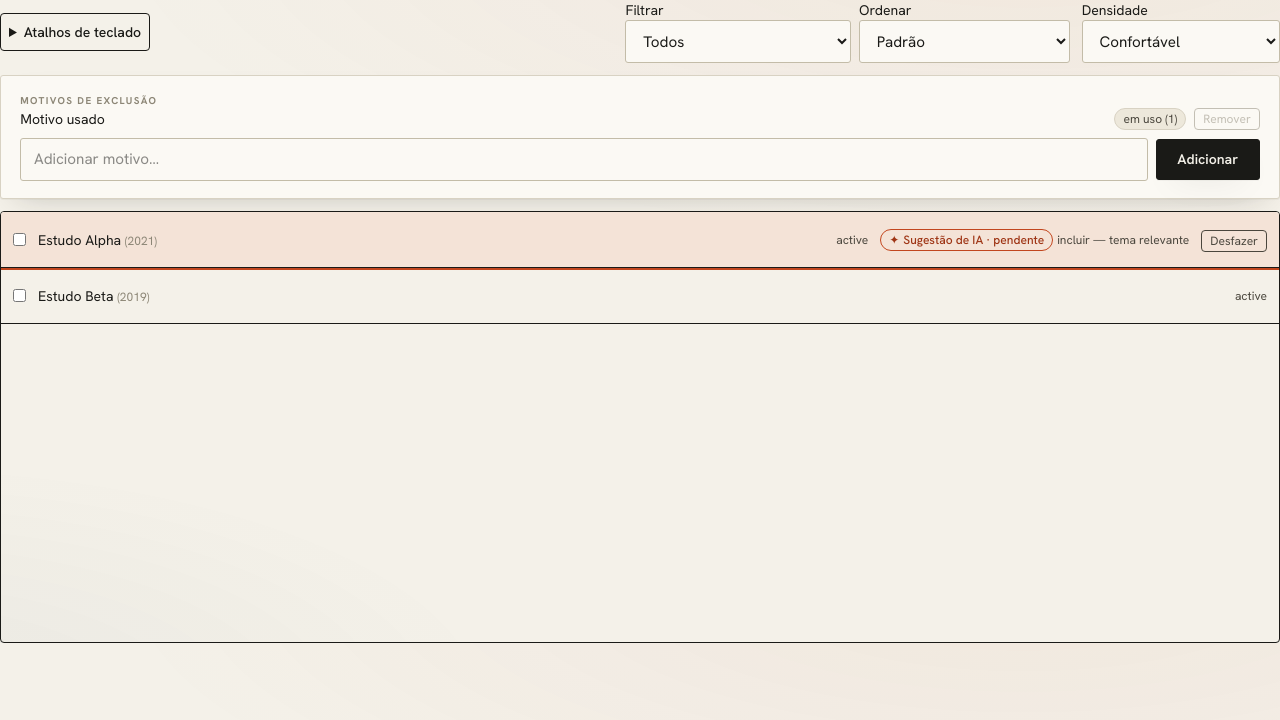
it: ScreeningQueue (US4) › 8.1 — artigo sem decisão reversível mostra nota, sem botão Desfazer
The image size is (1280, 720).
Expected: the text "Motivo usado" is shown, [20,109,105,129]
Click the button "em uso (1)" at (1150, 119), box [1114,108,1186,130]
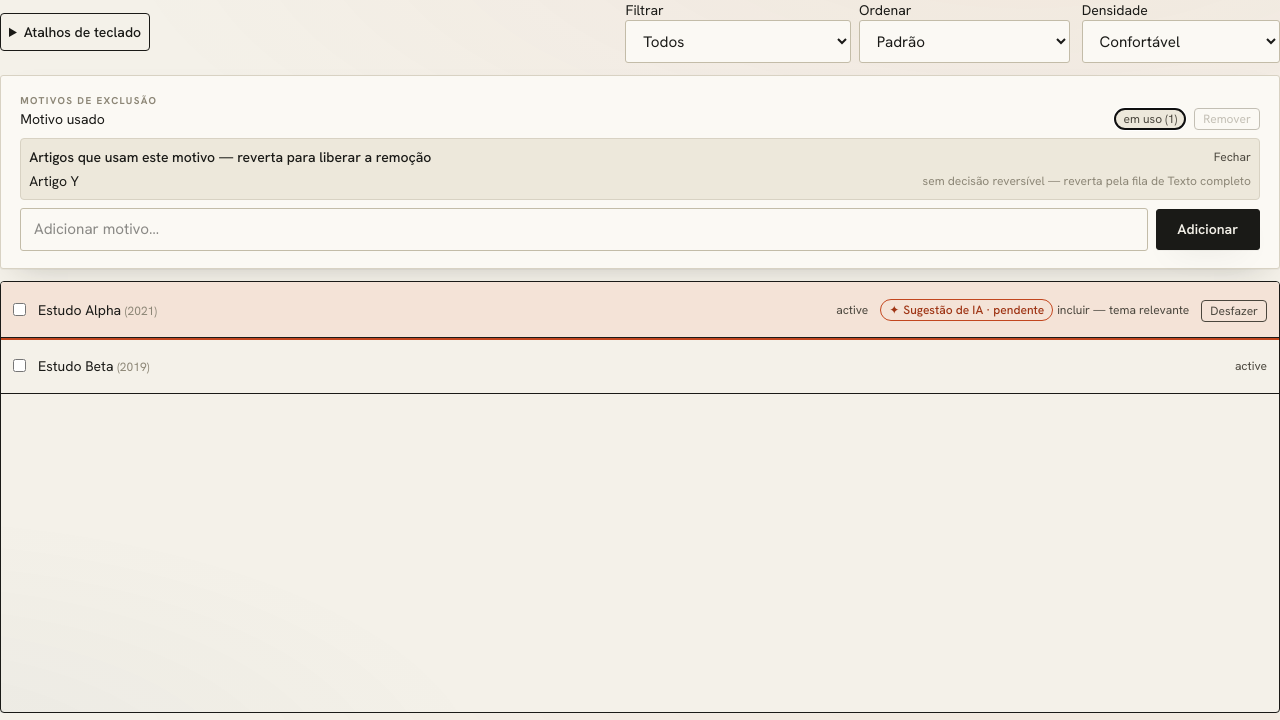
Result: the text "sem decisão reversível — reverta pela fila de Texto completo" is shown at [923,173,1251,189]
